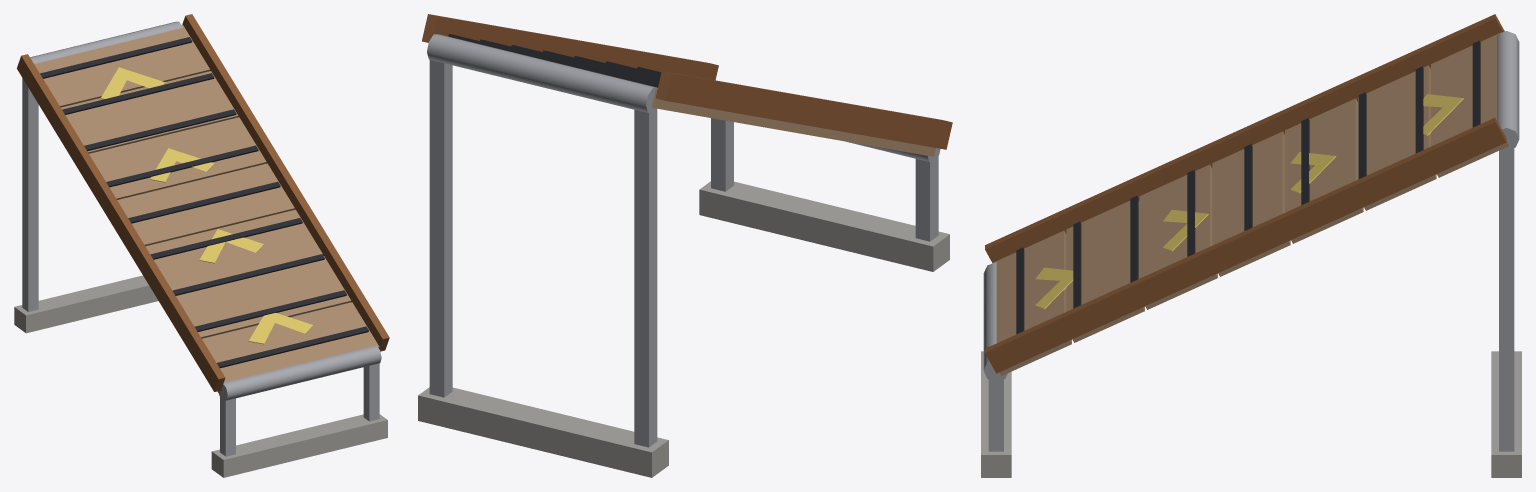
Rendered from build_ramp.glb.
The picture shows the model from 3 angles, left to right: view 1: azimuth 30°, elevation 25°; view 2: azimuth 150°, elevation 25°; view 3: azimuth 270°, elevation 25°; orthographic projection. The views are drawn at different scales.
Parts seen in each view (by area): view 1: Baked, BorderL, BorderR, _MeshInstance3D_310, _MeshInstance3D_306, _MeshInstance3D_308, _MeshInstance3D_312, _MeshInstance3D_313, _MeshInstance3D_314, _MeshInstance3D_307, _MeshInstance3D_311, _MeshInstance3D_309; view 2: Baked, BorderL, BorderR, _MeshInstance3D_314; view 3: Baked, BorderR, BorderL, _MeshInstance3D_313, _MeshInstance3D_307, _MeshInstance3D_308, _MeshInstance3D_310, _MeshInstance3D_314, _MeshInstance3D_306, _MeshInstance3D_312, _MeshInstance3D_309, _MeshInstance3D_311.
Part boxes in pixels (x1,y1,x2,y2): Baked: [14, 21, 387, 477]; BorderL: [17, 54, 225, 391]; BorderR: [182, 14, 389, 351]; _MeshInstance3D_310: [128, 181, 280, 223]; _MeshInstance3D_306: [217, 326, 368, 368]; _MeshInstance3D_308: [172, 254, 324, 295]; _MeshInstance3D_312: [84, 109, 236, 151]; _MeshInstance3D_313: [62, 73, 214, 114]; _MeshInstance3D_314: [40, 37, 192, 78]; _MeshInstance3D_307: [194, 290, 346, 331]; _MeshInstance3D_311: [106, 145, 258, 187]; _MeshInstance3D_309: [150, 218, 302, 259]; Baked: [418, 34, 949, 477]; BorderL: [655, 71, 952, 149]; BorderR: [422, 14, 718, 80]; _MeshInstance3D_314: [448, 34, 658, 87]; Baked: [981, 31, 1521, 477]; BorderR: [985, 118, 1506, 373]; BorderL: [985, 14, 1504, 263]; _MeshInstance3D_313: [1415, 66, 1423, 153]; _MeshInstance3D_307: [1073, 221, 1081, 308]; _MeshInstance3D_308: [1130, 196, 1138, 282]; _MeshInstance3D_310: [1244, 144, 1252, 230]; _MeshInstance3D_314: [1472, 40, 1480, 127]; _MeshInstance3D_306: [1016, 247, 1024, 334]; _MeshInstance3D_312: [1358, 92, 1366, 178]; _MeshInstance3D_309: [1187, 170, 1195, 256]; _MeshInstance3D_311: [1301, 118, 1309, 205].
Size of the model in its own units: 1 by 1.55 by 2.12.
